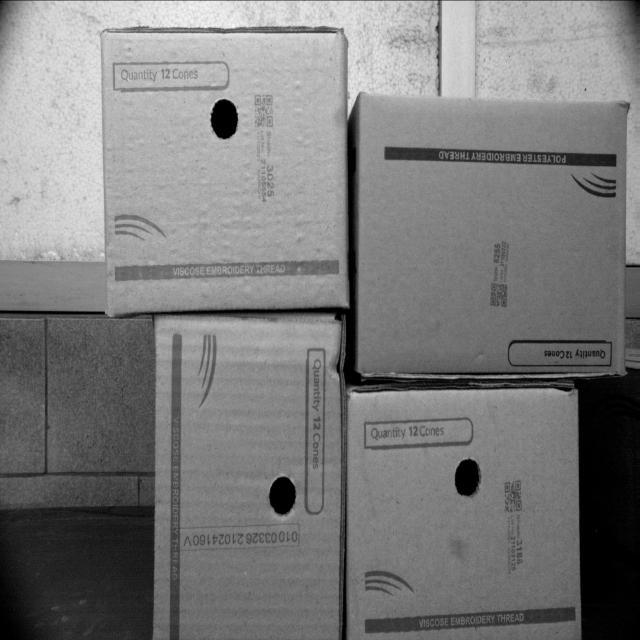box: (356, 93, 630, 380), (96, 20, 350, 313), (154, 319, 346, 639), (350, 383, 584, 639)
